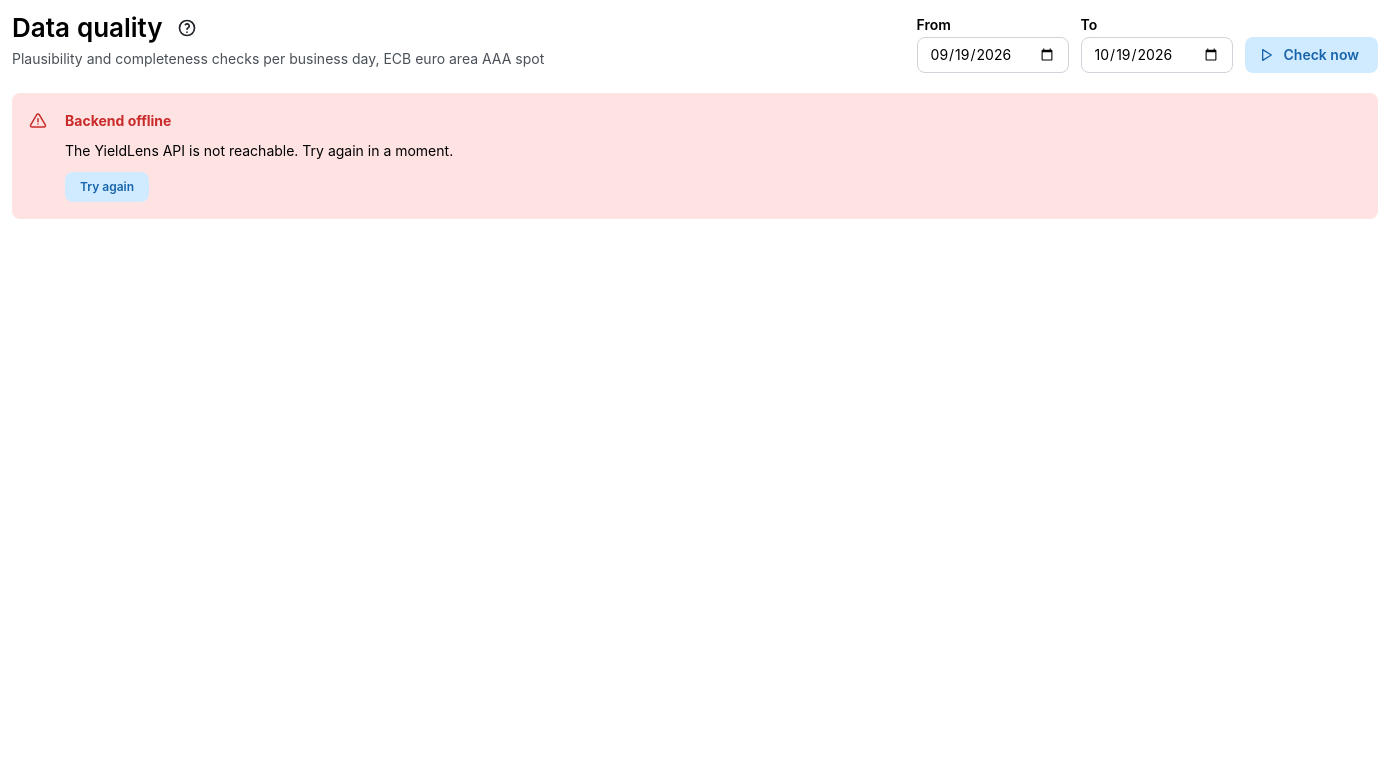
Test case: QualityView › offline shows Backend offline and Try again refetches
Check: the message shows "Backend offline", box left=65, top=112, right=171, bottom=129
What coordinates should you click on to do the following:
click the button "Try again"
I would click on:
 (107, 187)
Its box is left=65, top=172, right=149, bottom=202.
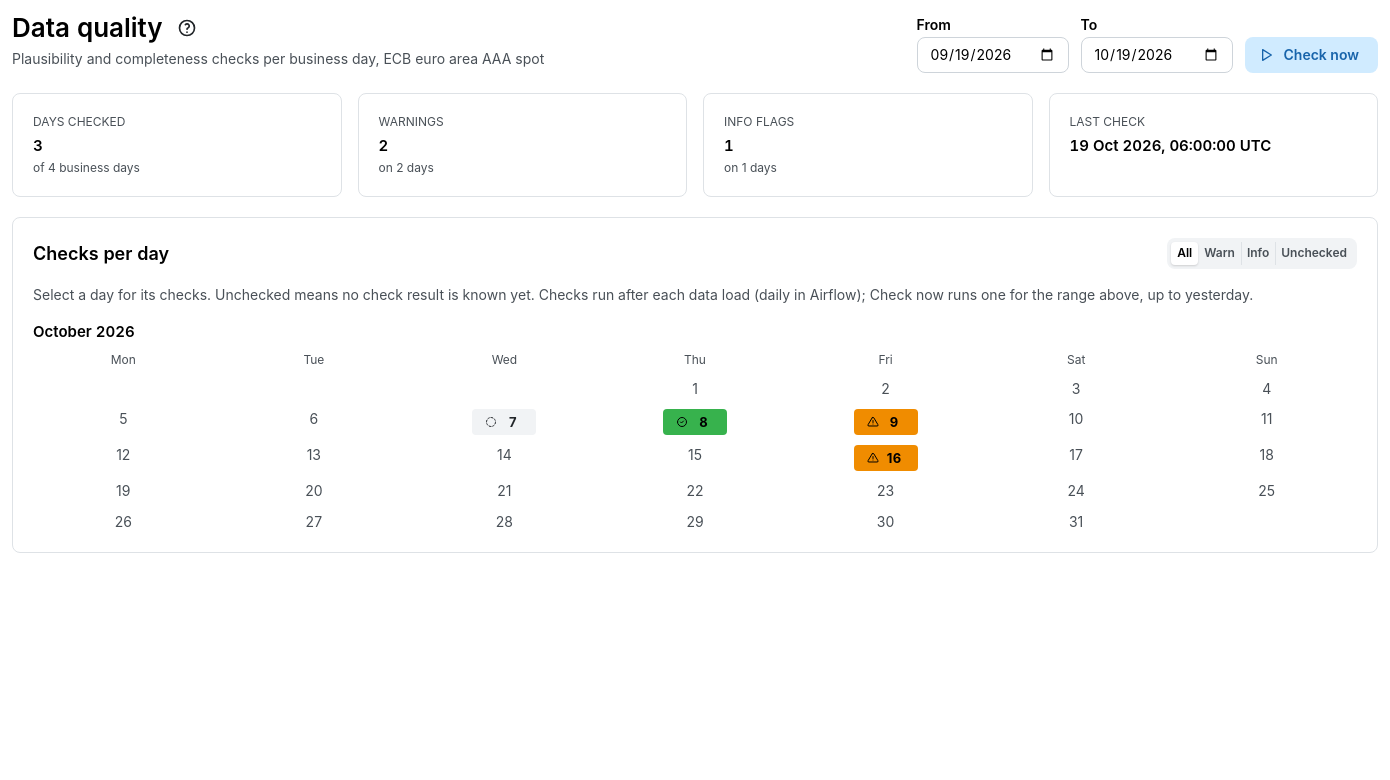
Check: the button named "2026-10-16, Warn" is shown, box left=854, top=445, right=918, bottom=471
